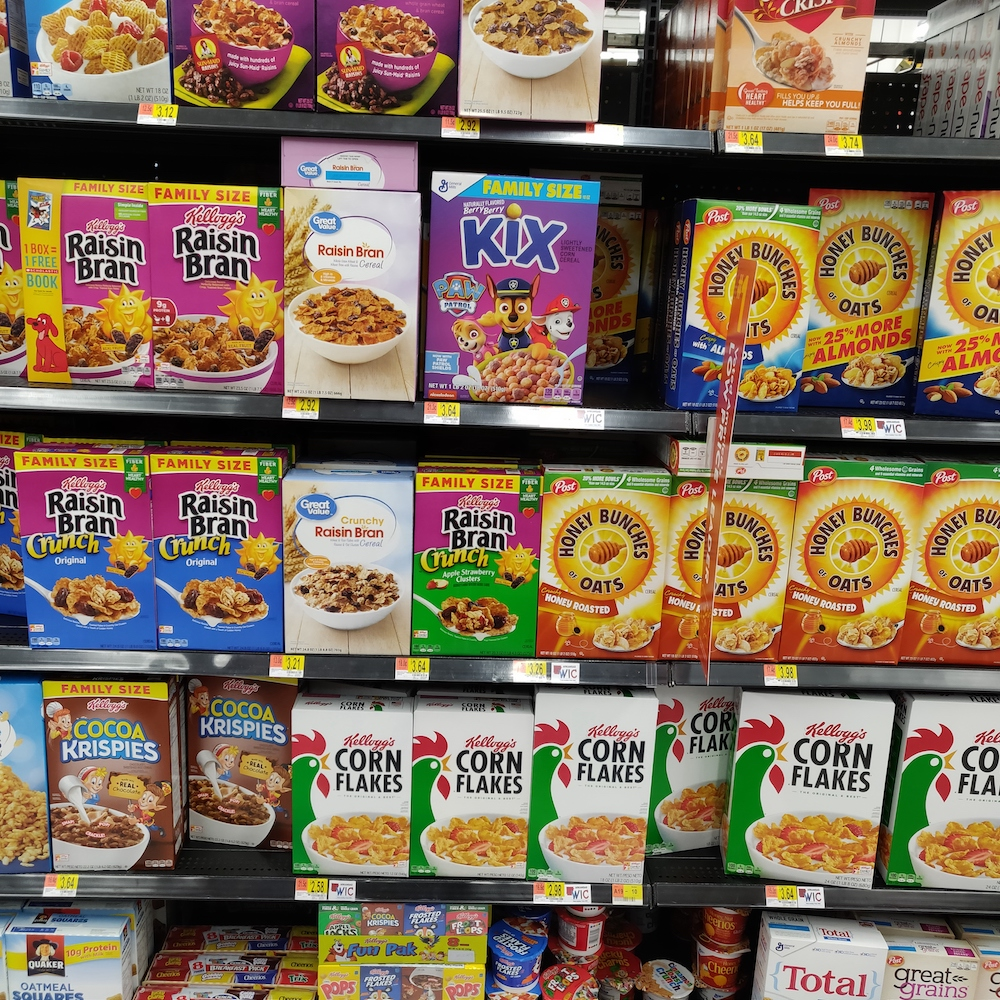Kix Berry -568919964: (425, 171, 595, 397)
